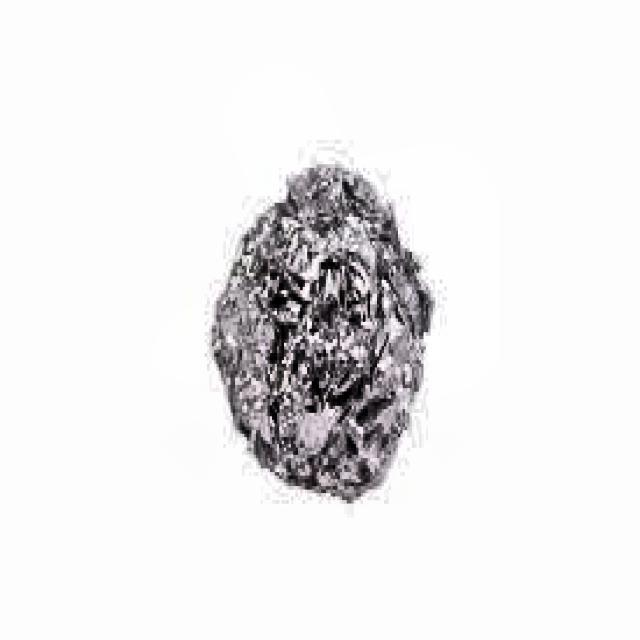Foil: (203, 159, 437, 542)
